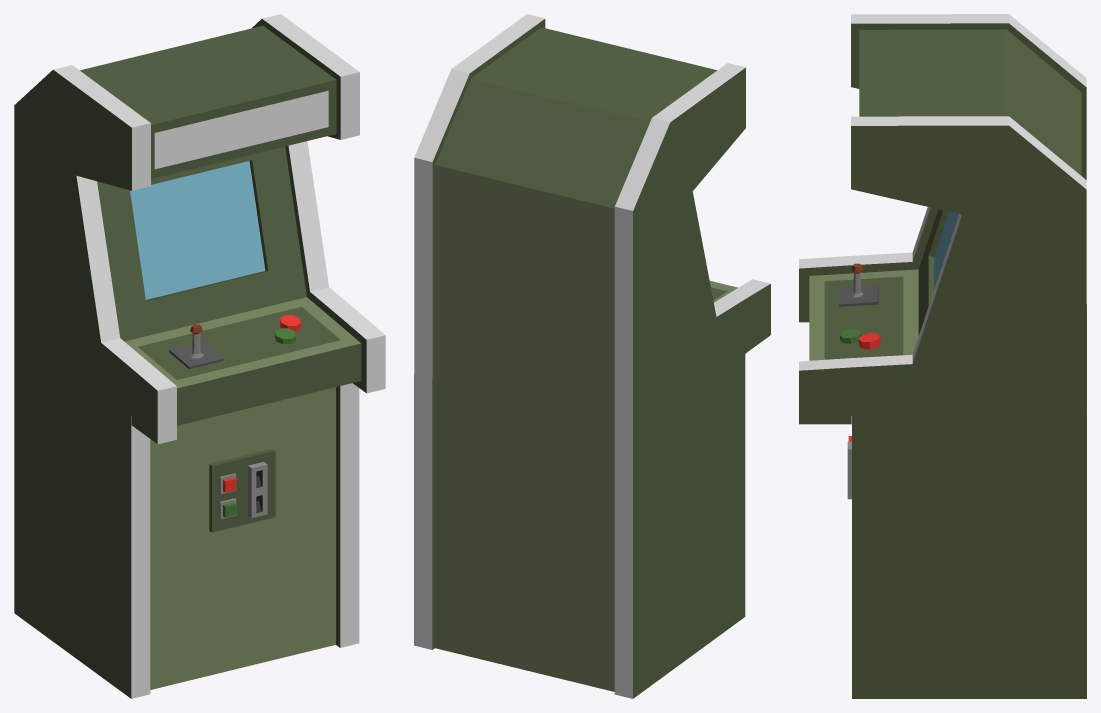
File: SM_Props_ArcadeMachine_01.fbx
3 renders of one model, left to right at view 1: azimuth 30°, elevation 25°; view 2: azimuth 150°, elevation 25°; view 3: azimuth 270°, elevation 25°, orthographic. The views are drawn at different scales.
Parts seen in each view (by area): view 1: SM_Props_ArcadeMachine_01; view 2: SM_Props_ArcadeMachine_01; view 3: SM_Props_ArcadeMachine_01.
Part boxes in pixels (left/top/right/bottom): SM_Props_ArcadeMachine_01: left=14, top=14, right=385, bottom=698; SM_Props_ArcadeMachine_01: left=414, top=14, right=770, bottom=698; SM_Props_ArcadeMachine_01: left=799, top=14, right=1086, bottom=698.
Size of the model in its own units: 0.7172 by 1.72 by 0.7822.
